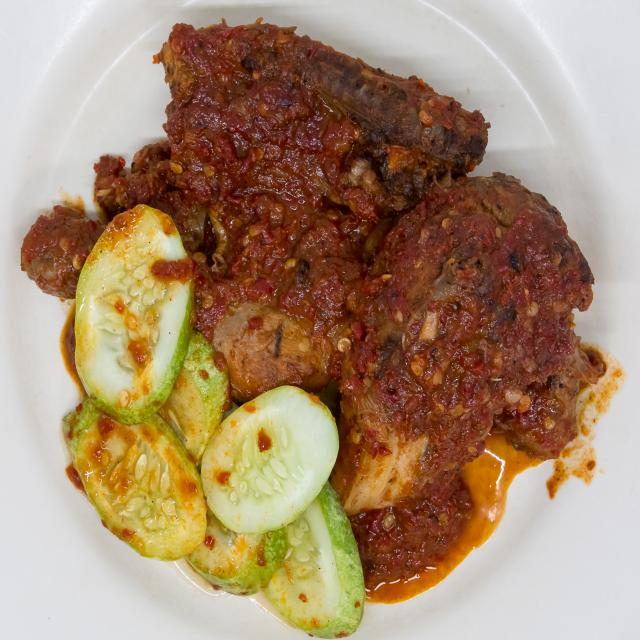Ayam-Bumbu-Rujak: (16, 14, 604, 596)
